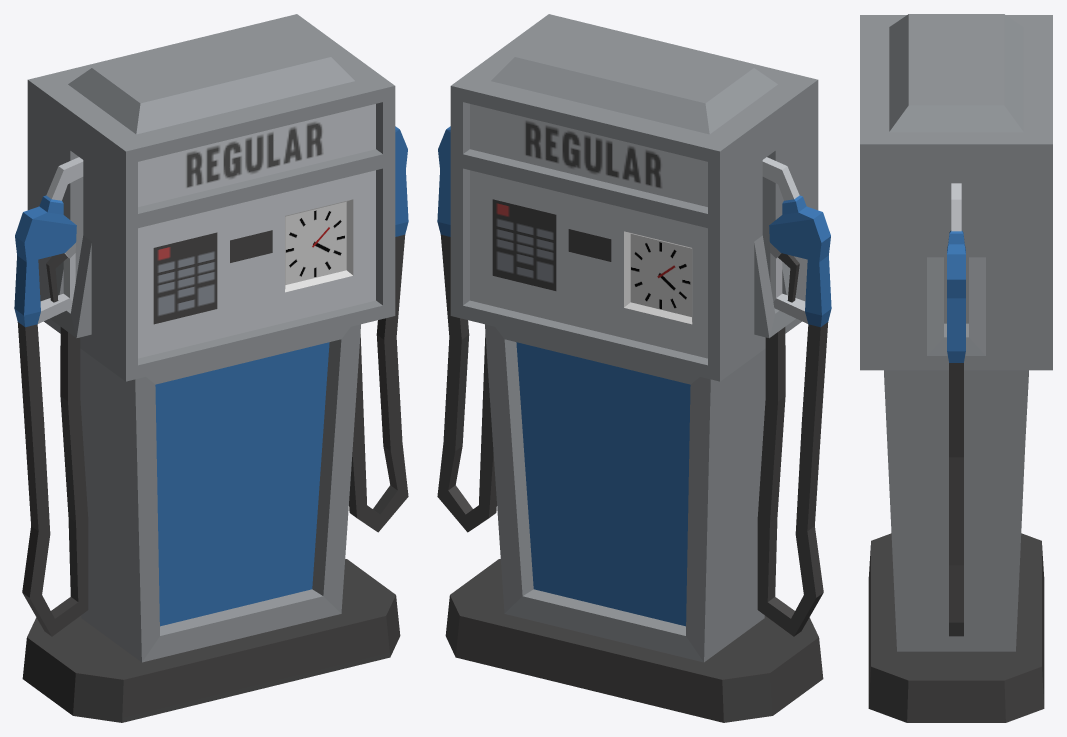
The model's file is Gaspump.fbx.
The picture shows the model from 3 angles, left to right: view 1: azimuth 30°, elevation 25°; view 2: azimuth 150°, elevation 25°; view 3: azimuth 270°, elevation 25°; orthographic projection.
Visible parts, largest first — view 1: Gaspump; view 2: Gaspump; view 3: Gaspump.
Boxes of the visible parts, x1,y1,x2,y2 form: Gaspump: (14,14,408,722); Gaspump: (437,14,831,722); Gaspump: (860,14,1052,722).
Bounding box in the file's own units: 145 × 214 × 63.99.
Materials: 1 (1 with a texture image).
